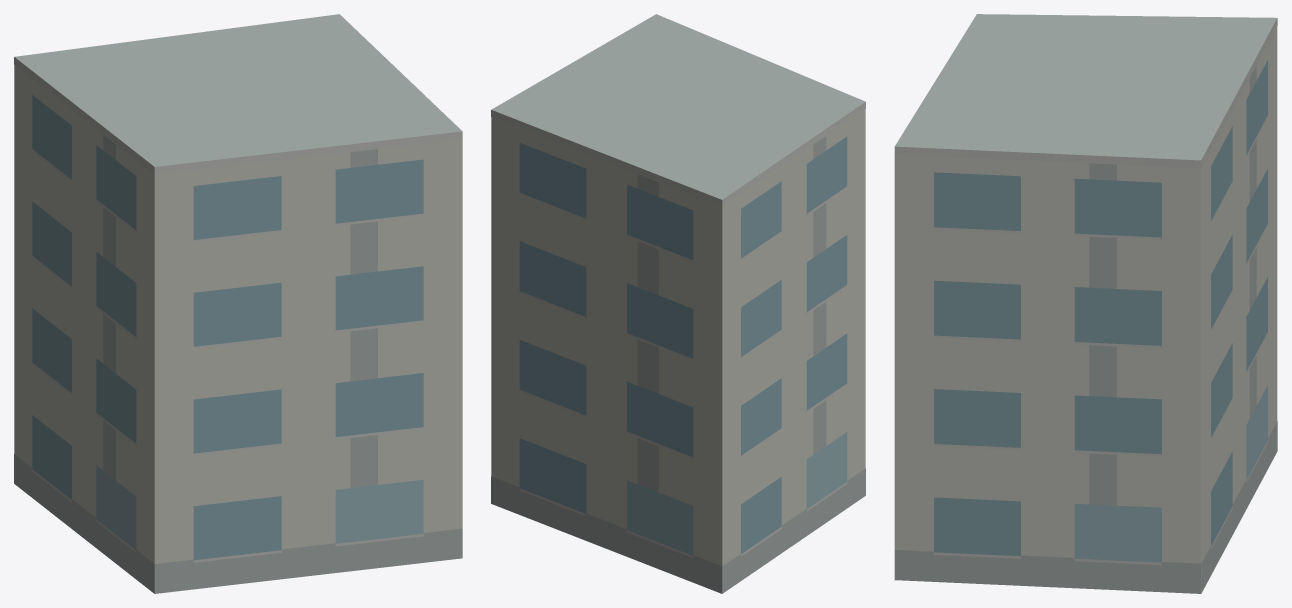
The model's file is residential-13ad265e-5be6-4225-81df-b9e39b4f07dc.glb.
3 renders of one model, left to right at view 1: azimuth 30°, elevation 25°; view 2: azimuth 150°, elevation 25°; view 3: azimuth 270°, elevation 25°, orthographic. The views are drawn at different scales.
Parts seen in each view (by area): view 1: residential-13ad265e-5be6-4225-81df-b9e39b4f07dc.tmp; view 2: residential-13ad265e-5be6-4225-81df-b9e39b4f07dc.tmp; view 3: residential-13ad265e-5be6-4225-81df-b9e39b4f07dc.tmp.
Boxes of the visible parts, box(x1,y1,x2,y2) form: residential-13ad265e-5be6-4225-81df-b9e39b4f07dc.tmp: box(14, 14, 462, 593); residential-13ad265e-5be6-4225-81df-b9e39b4f07dc.tmp: box(491, 14, 865, 593); residential-13ad265e-5be6-4225-81df-b9e39b4f07dc.tmp: box(894, 14, 1277, 593).
Size of the model in its own units: 9.62 by 13.27 by 10.63.
